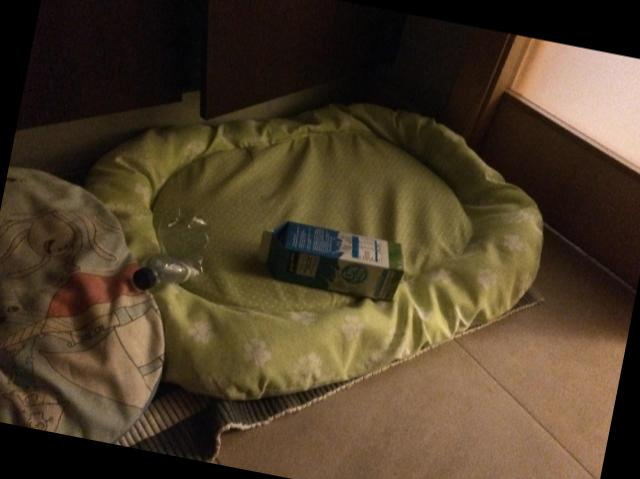cardboard paper: (261, 221, 404, 300)
plastic: (133, 206, 210, 290)
